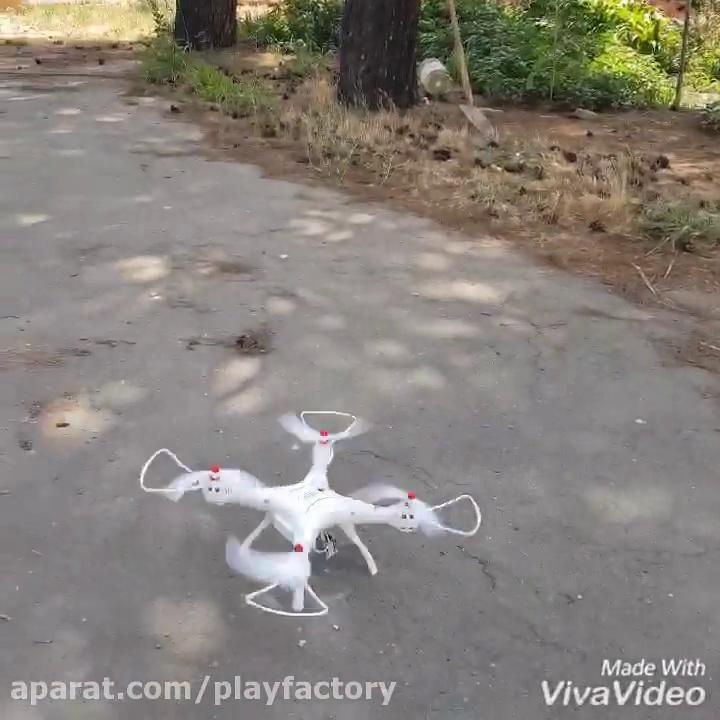drone: (136, 408, 482, 622)
